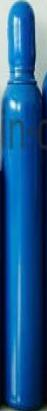cylinder: (1, 1, 47, 411)
